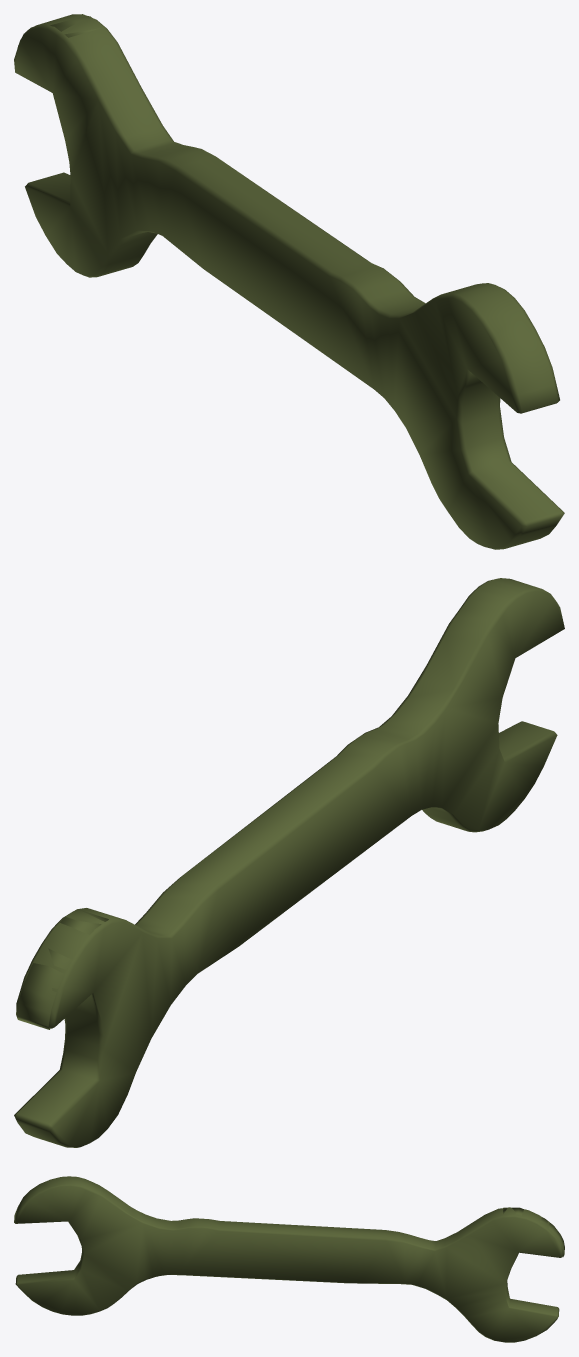
The model's file is llave doble cabeza.fbx.
3 renders of one model, top to bottom at view 1: azimuth 30°, elevation 25°; view 2: azimuth 150°, elevation 25°; view 3: azimuth 270°, elevation 25°, orthographic. The views are drawn at different scales.
Visible parts, largest first — view 1: mesh_input; view 2: mesh_input; view 3: mesh_input.
Part boxes in pixels (left/top/right/bottom): mesh_input: left=14, top=14, right=564, bottom=549; mesh_input: left=14, top=578, right=564, bottom=1147; mesh_input: left=14, top=1176, right=564, bottom=1342.
Bounding box in the file's own units: 31.97 × 115 × 380.
